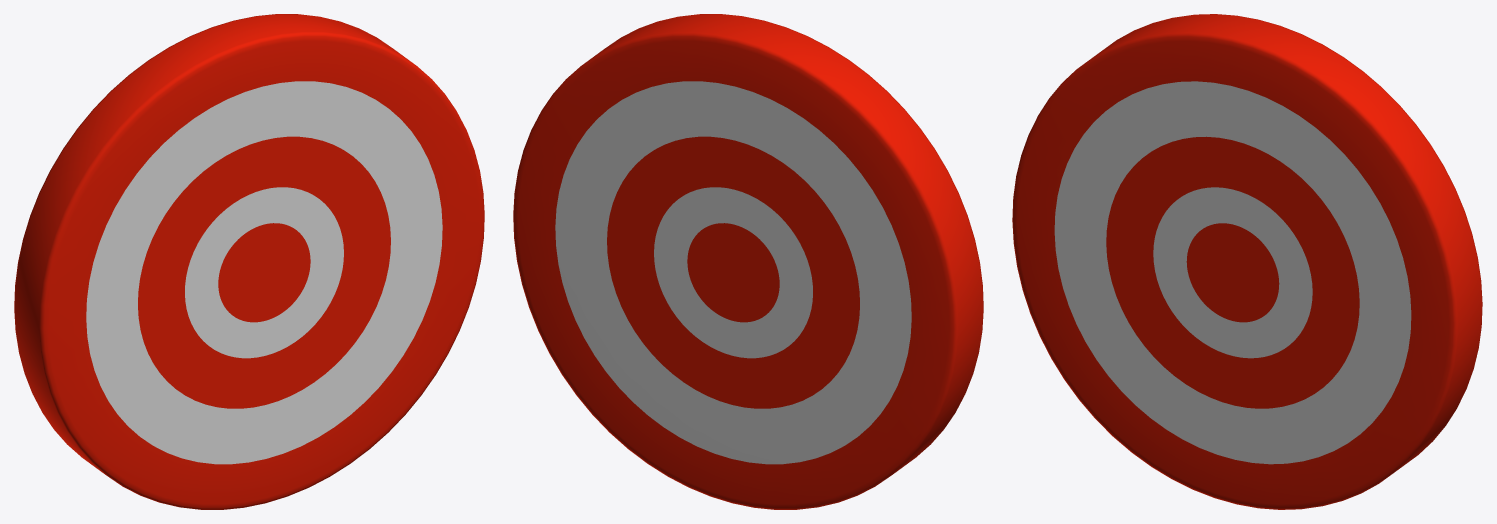
Rendered from Zielscheibe.fbx.
3 views of the same model, side by side, from view 1: azimuth 30°, elevation 25°; view 2: azimuth 150°, elevation 25°; view 3: azimuth 330°, elevation 25° (orthographic).
Visible parts, largest first — view 1: Zielscheibe; view 2: Zielscheibe; view 3: Zielscheibe.
Boxes of the visible parts, x1,y1,x2,y2 form: Zielscheibe: (14,14,484,509); Zielscheibe: (513,14,983,509); Zielscheibe: (1012,14,1482,509).
Size of the model in its own units: 151 by 151 by 17.55.
